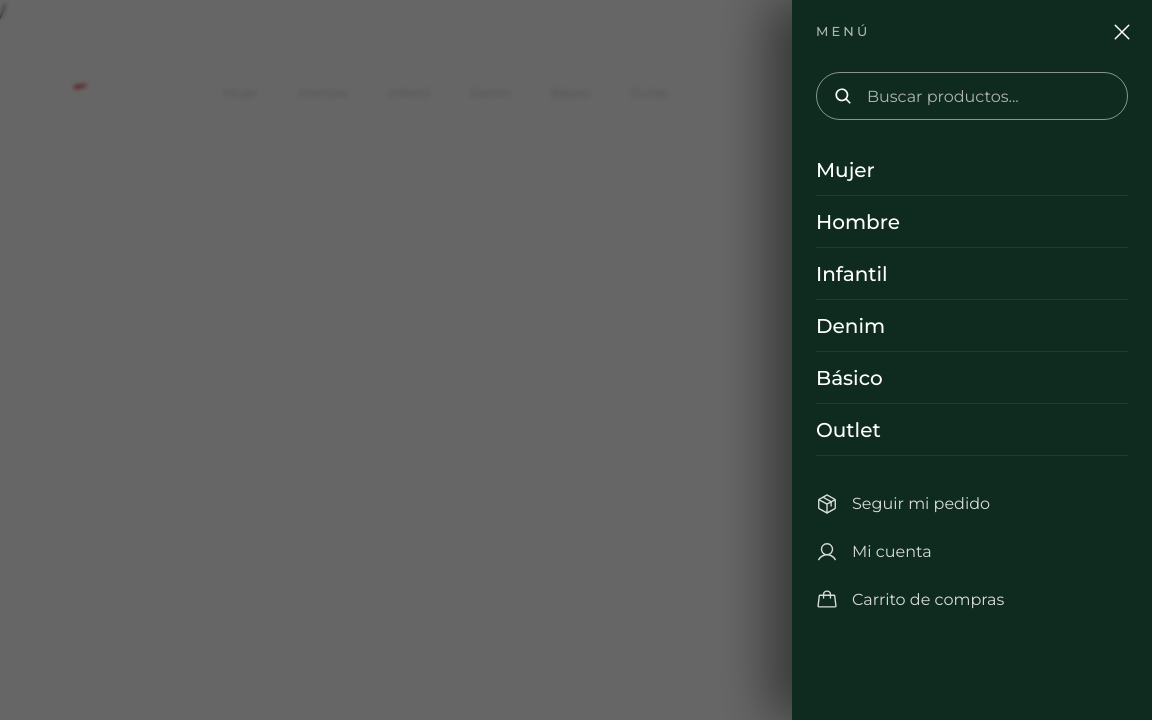
Test: SiteHeader › abre el menú móvil y lo cierra al elegir una categoría
Earlier steps of the test are not shown.
Click the link "Outlet" at (848, 430), box [816,404,1128,456]
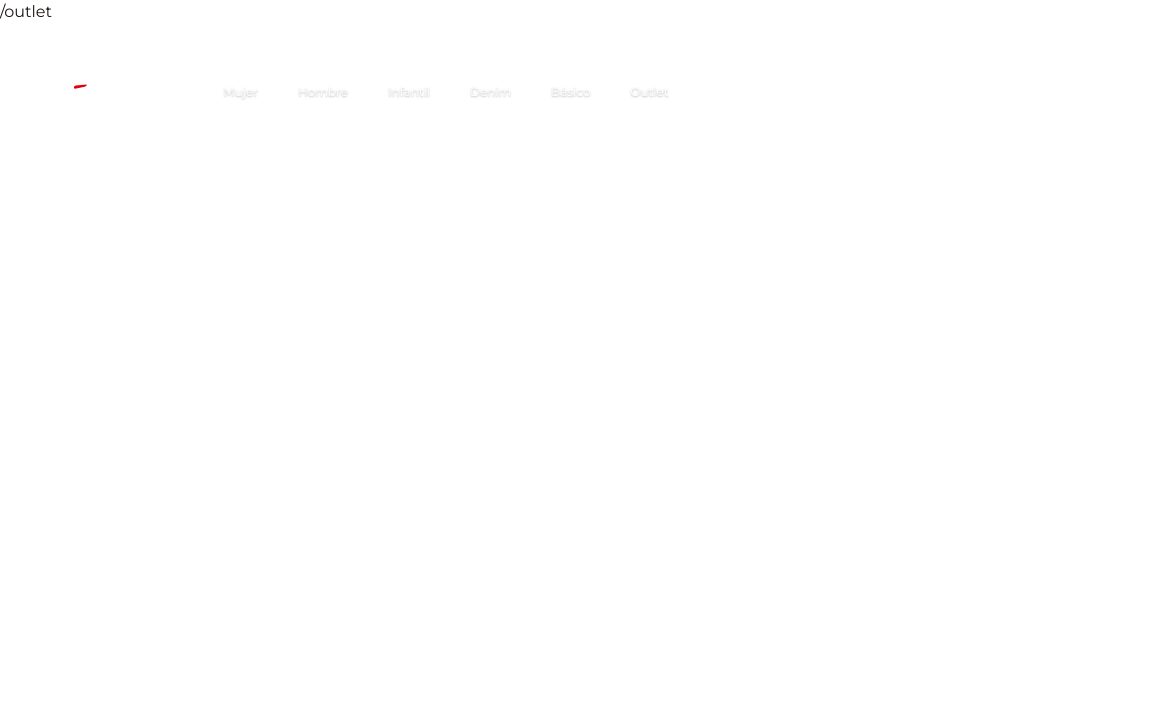
Result: the text named "ubicación" reads "/outlet" at [0,2,52,21]
